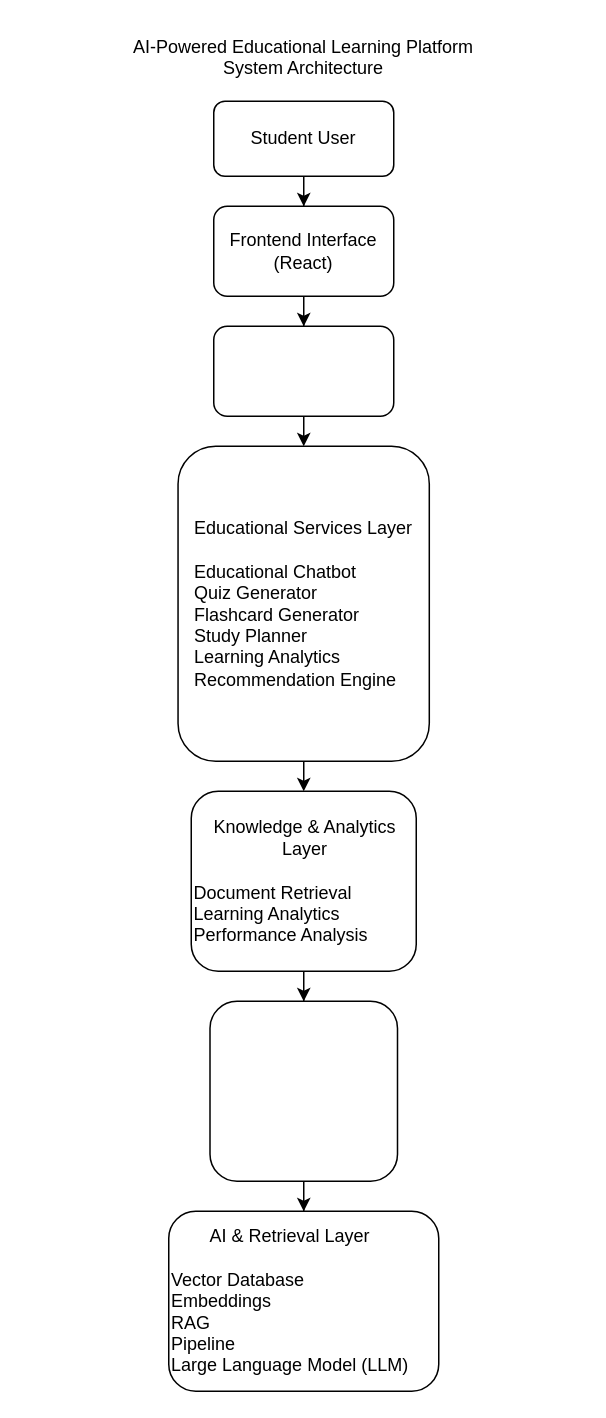
Image size: 606x1418. Some labels were removed from this diagram. The shapes that lost their labels are listed below. From the top down, each one's centre as x and y in pixels, then its label:
[303,370]: Backend API Server (Flask)
[303,1090]: Data Layer PDF Knowledge Base CSV Datasets JSON Datasets Subject-Topic Mapping
